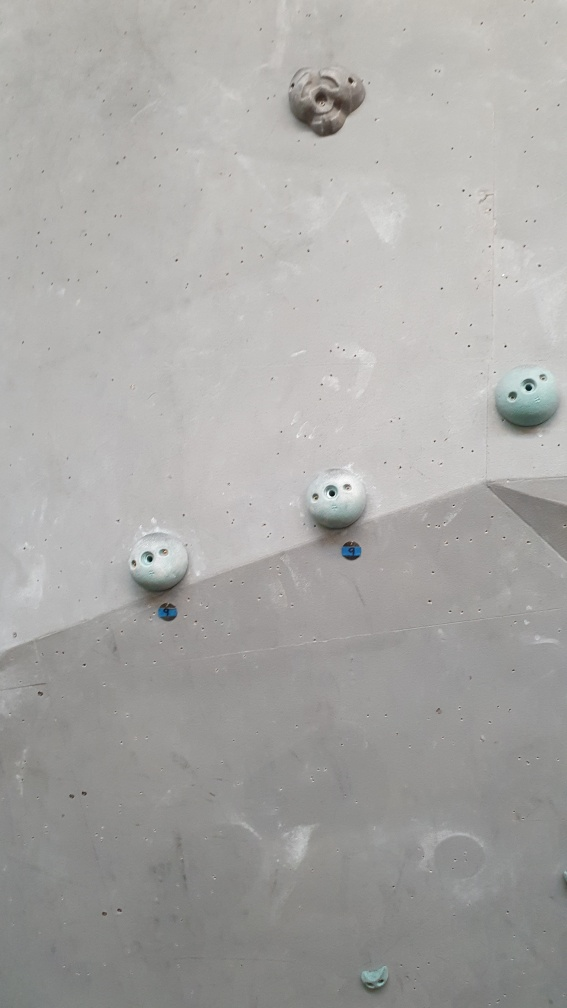Hand Start: (336, 536, 367, 561), (155, 601, 183, 627)
Jug: (289, 61, 371, 134)
Sloper: (299, 462, 370, 534), (491, 359, 561, 429), (122, 526, 194, 593)
